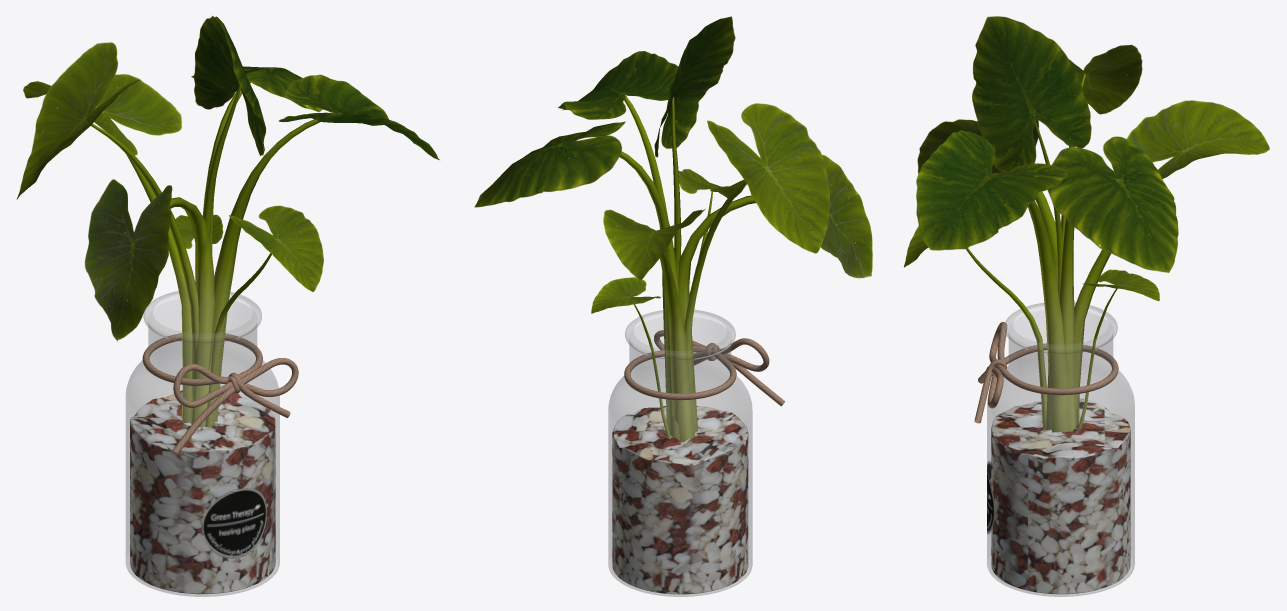
File: MEGA_PACK_Plant__plant_303563.glb
3 views of the same model, side by side, from view 1: azimuth 30°, elevation 25°; view 2: azimuth 150°, elevation 25°; view 3: azimuth 270°, elevation 25° (orthographic). The views are drawn at different scales.
Parts seen in each view (by area): view 1: plant_303563; view 2: plant_303563; view 3: plant_303563.
Part boxes in pixels (x1=…): plant_303563: x1=16, y1=16, x2=439, y2=596; plant_303563: x1=474, y1=16, x2=872, y2=596; plant_303563: x1=904, y1=16, x2=1269, y2=596.
Bounding box in the file's own units: 0.0987 × 0.1577 × 0.097.
1 material, 1 textured.
